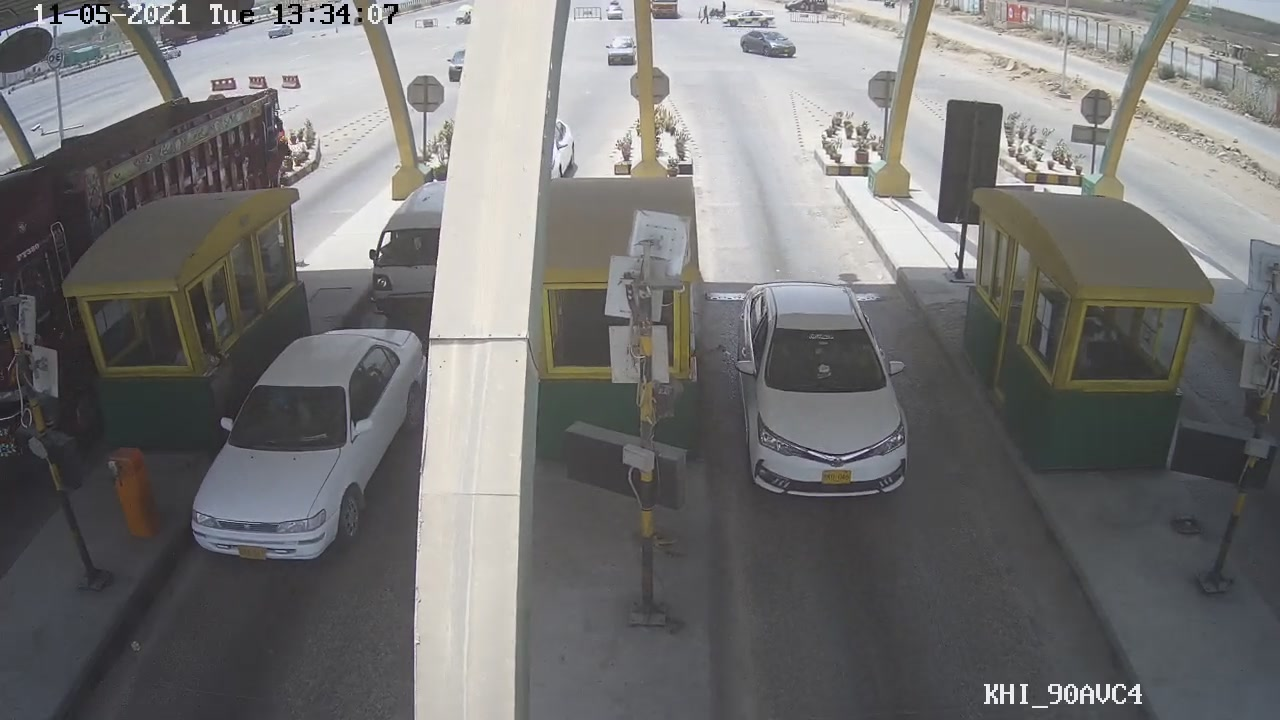F1: (729, 271, 915, 503)
